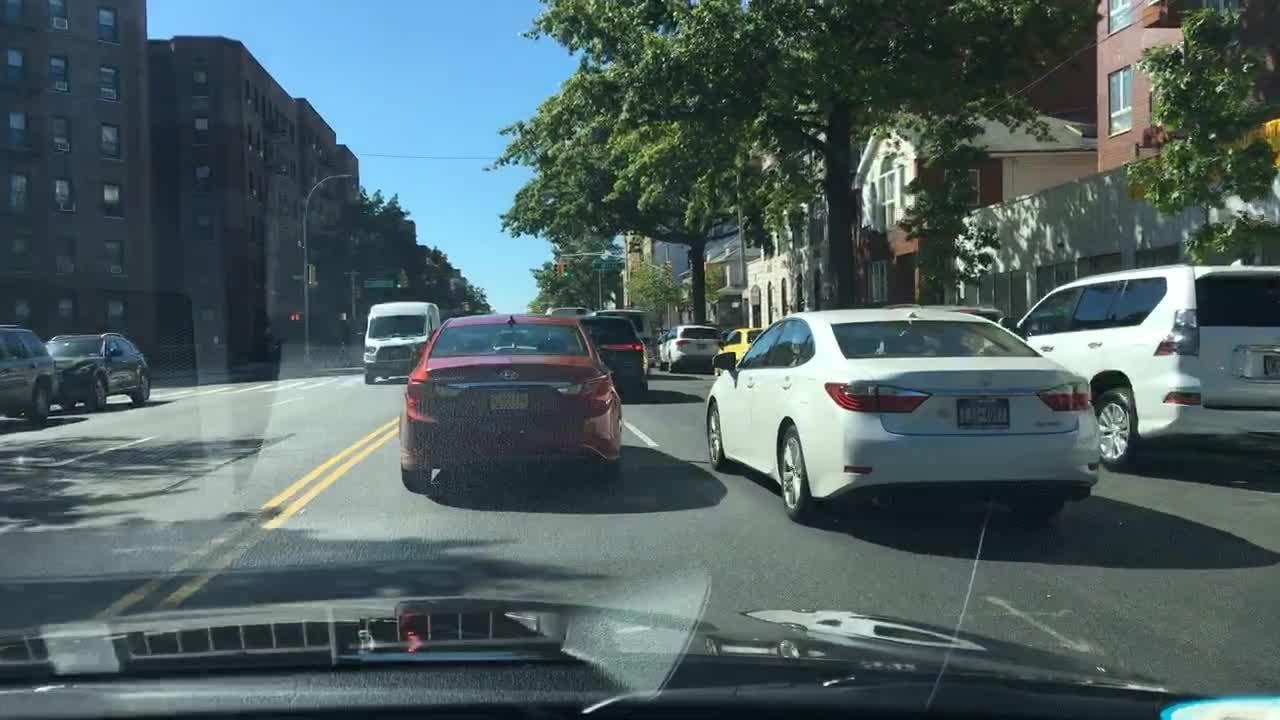Hyundai: (495, 366, 525, 386)
